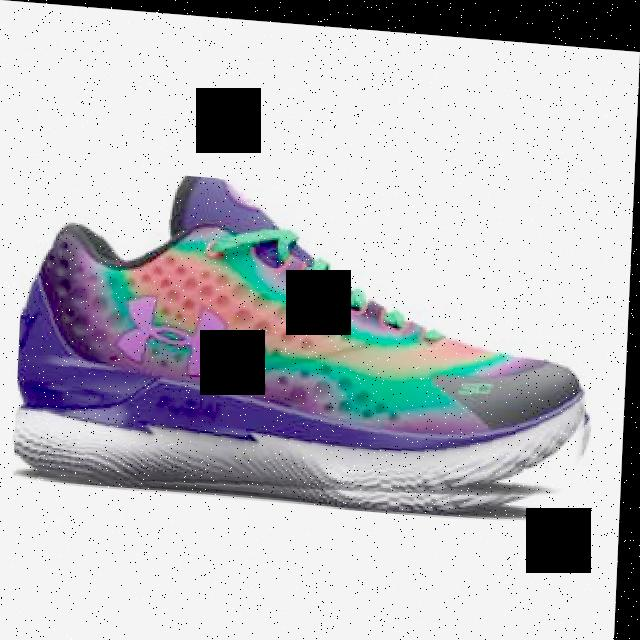shoe: (17, 162, 602, 515)
